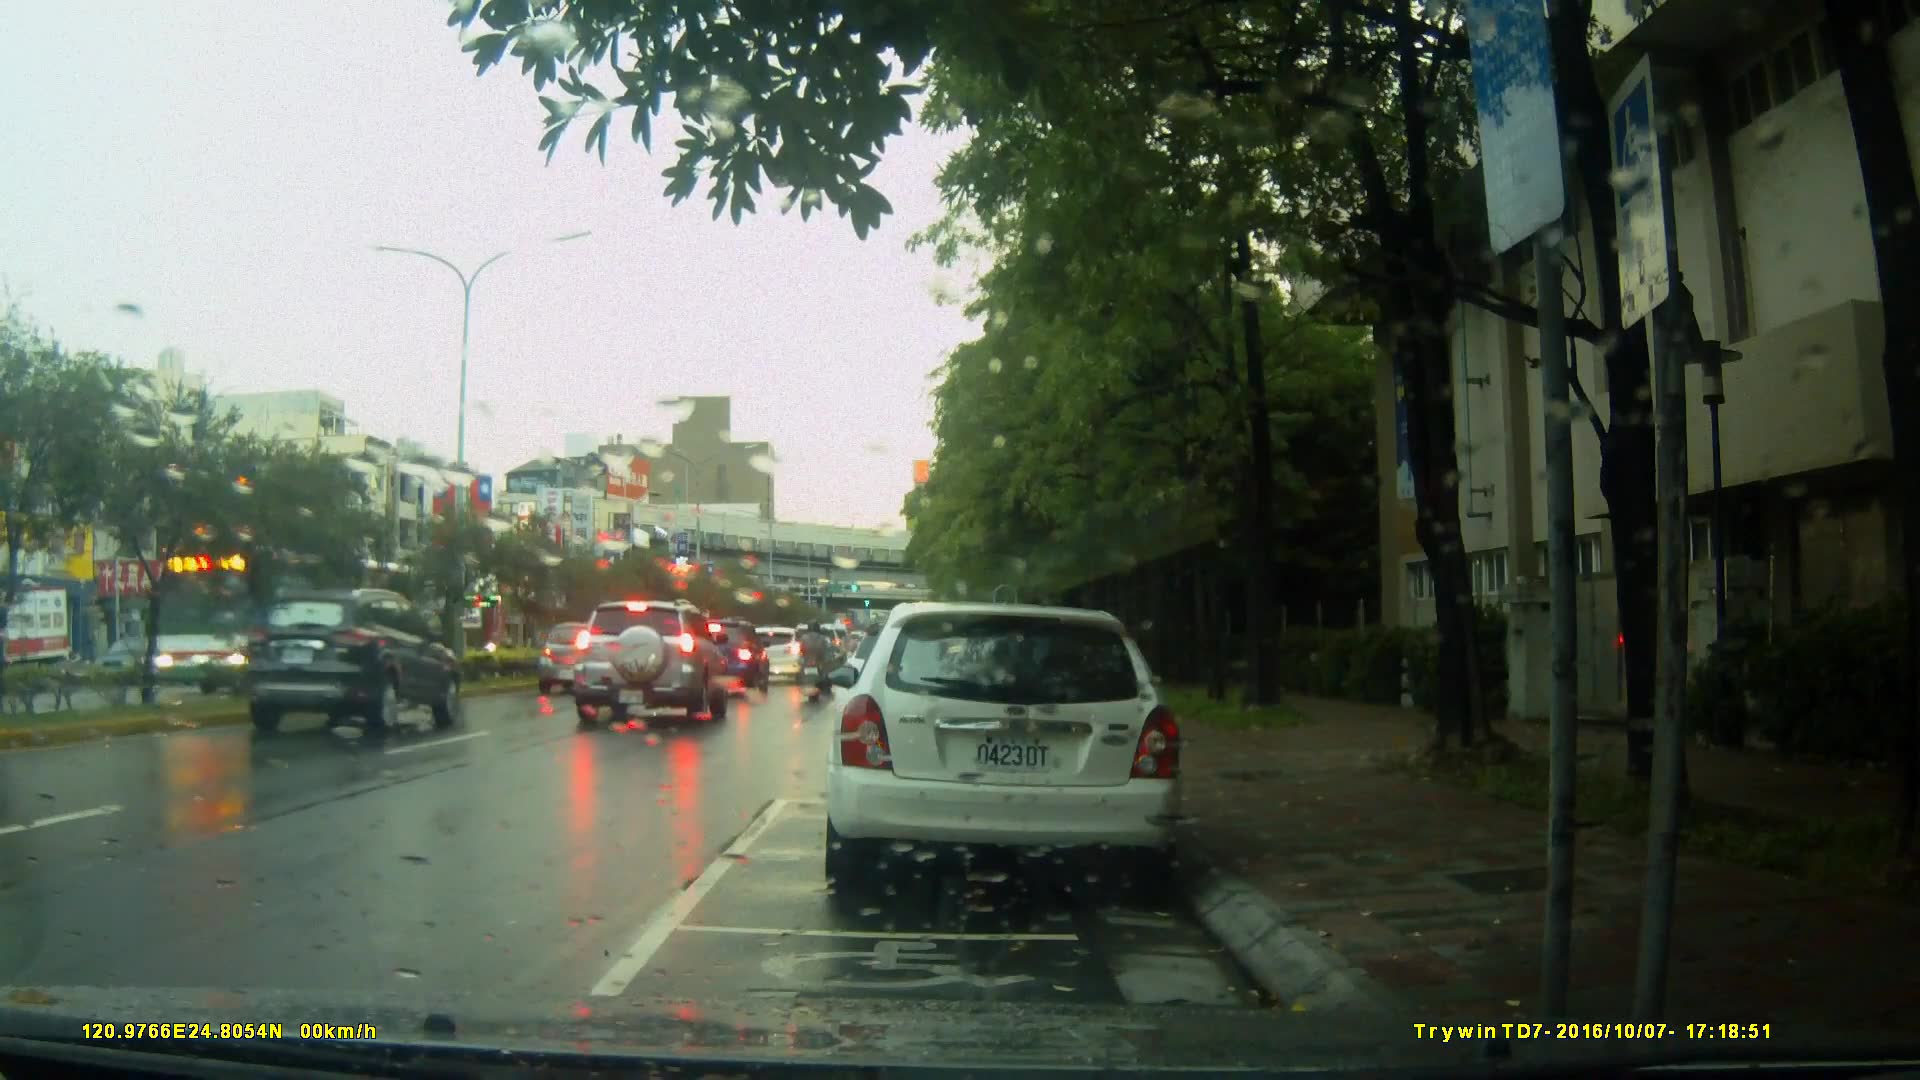rider: (799, 614, 838, 709)
vehicle: (820, 602, 1188, 898), (240, 586, 467, 739), (575, 599, 733, 727), (674, 616, 773, 692)
